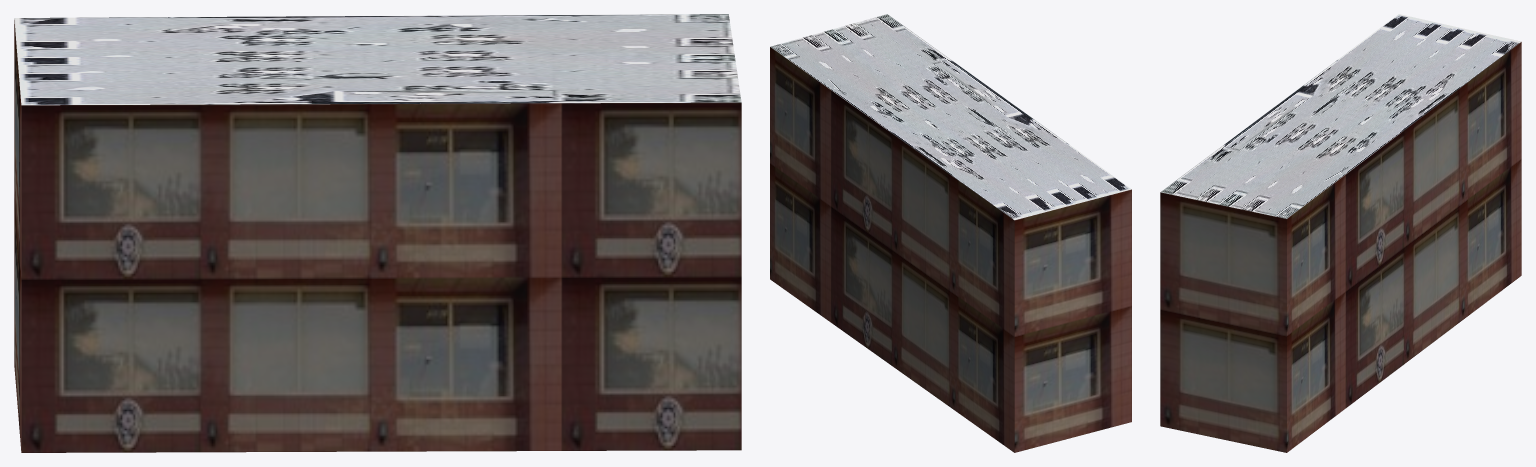
The model's file is ResTex__4423.fbx.
3 renders of one model, left to right at view 1: azimuth 30°, elevation 25°; view 2: azimuth 150°, elevation 25°; view 3: azimuth 270°, elevation 25°, orthographic. The views are drawn at different scales.
Visible parts, largest first — view 1: CityEngineMaterial_13_m, CityEngineMaterial_4_m; view 2: CityEngineMaterial_13_m, CityEngineMaterial_4_m; view 3: CityEngineMaterial_13_m, CityEngineMaterial_4_m.
Boxes of the visible parts, box(x1,y1,x2,y2) form: CityEngineMaterial_13_m: box(14, 20, 741, 452); CityEngineMaterial_4_m: box(14, 14, 741, 105); CityEngineMaterial_13_m: box(770, 47, 1131, 452); CityEngineMaterial_4_m: box(770, 14, 1131, 220); CityEngineMaterial_13_m: box(1160, 42, 1521, 452); CityEngineMaterial_4_m: box(1160, 14, 1520, 218).
Bounding box in the file's own units: 11.27 × 6 × 8.4.
Materials: 2 (2 with a texture image).
